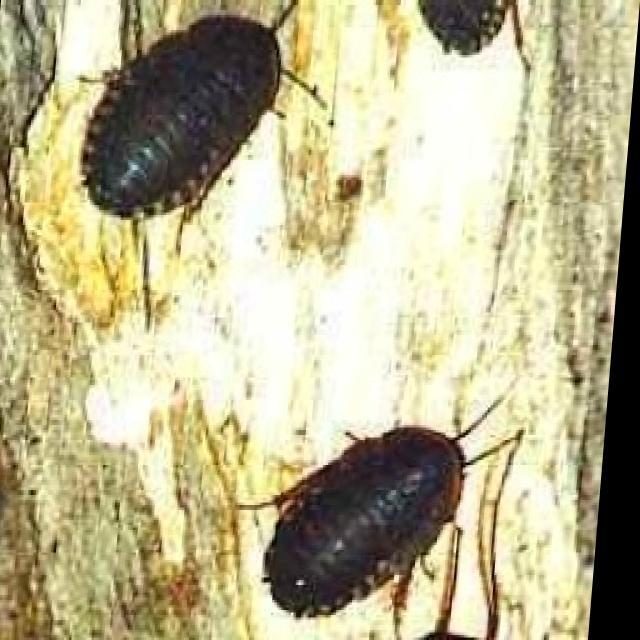cockroach: (223, 357, 528, 640), (88, 11, 291, 257)
